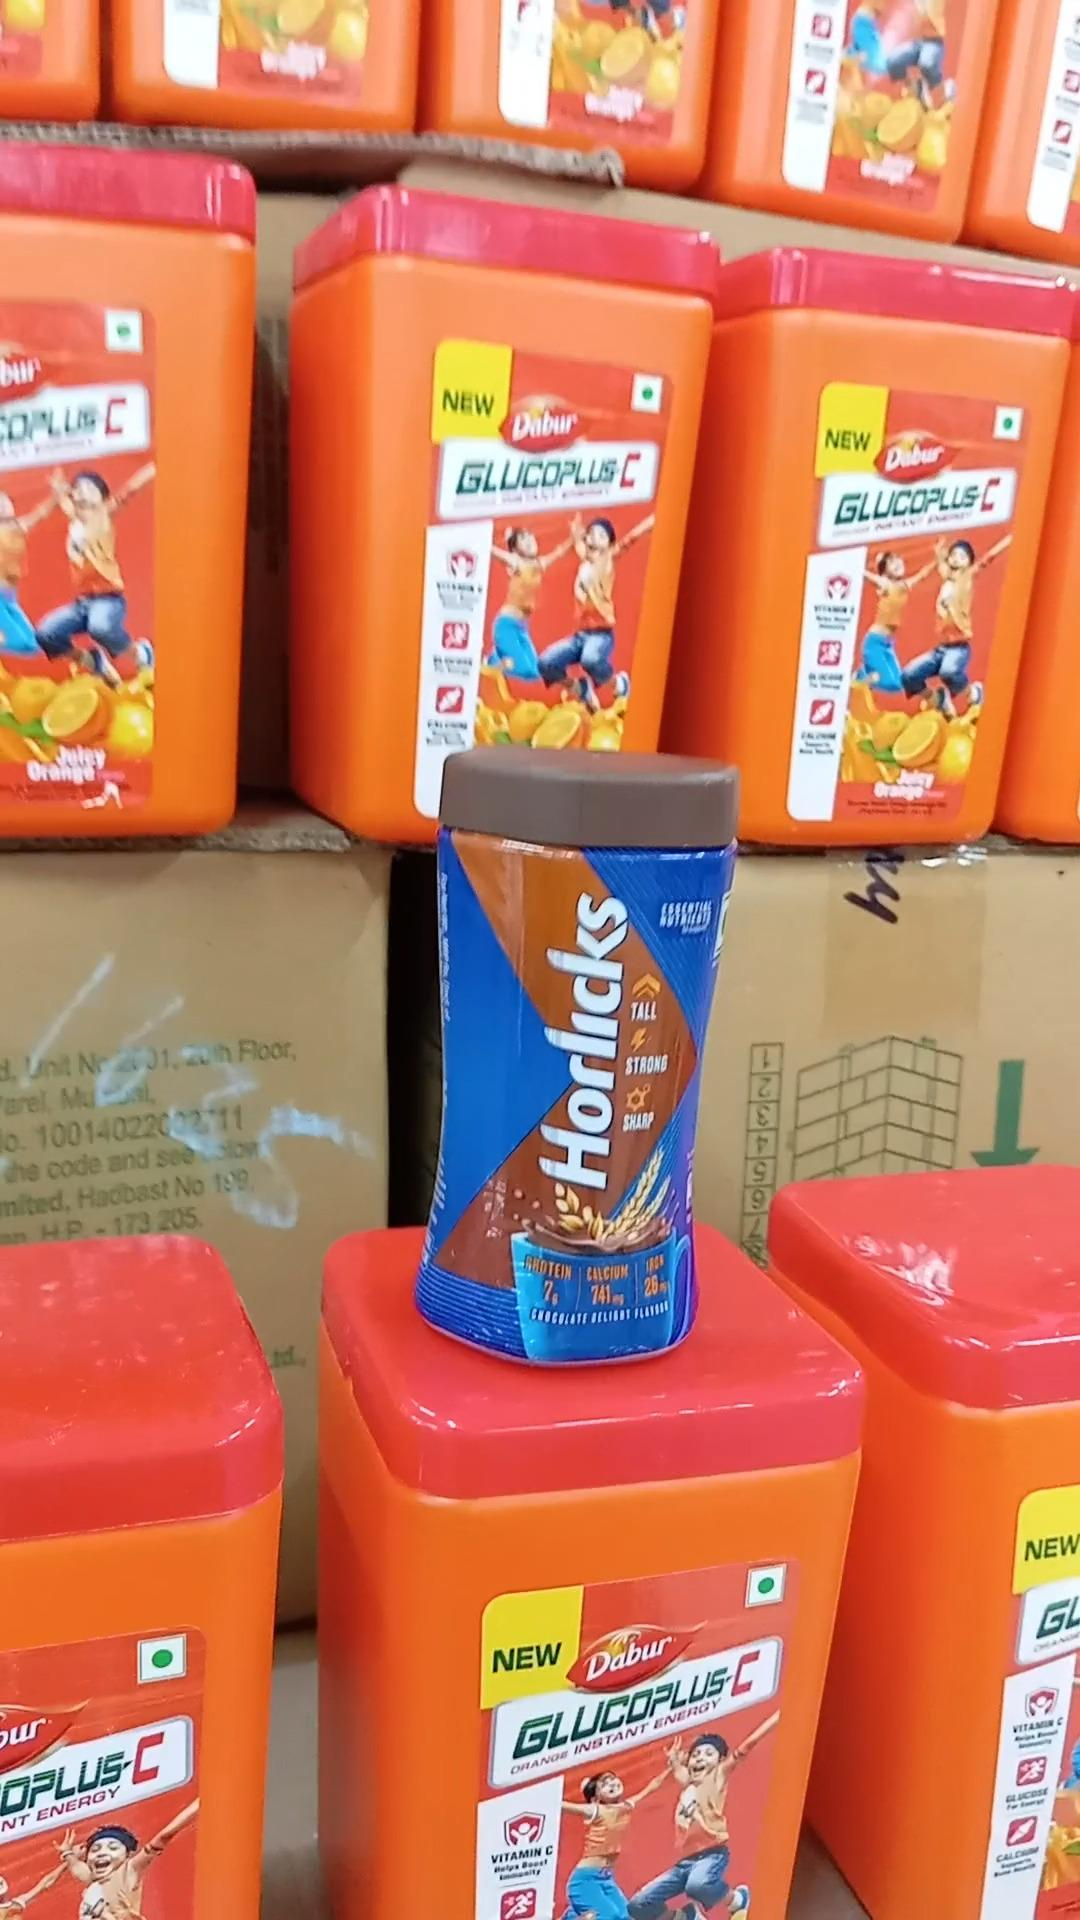HORLICK_CHOCOLATE_200_G_JAR: (427, 731, 712, 1374)
